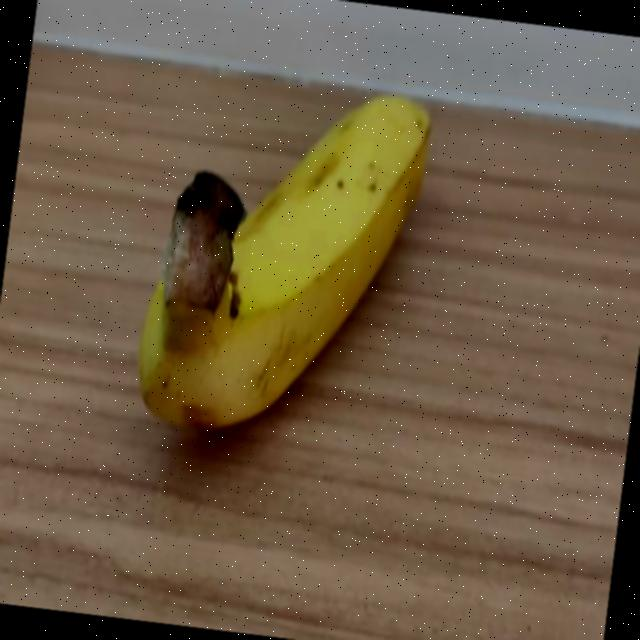Ripe: (91, 35, 456, 470)
